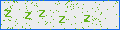z: (58, 15, 66, 24), (25, 12, 32, 20), (83, 15, 90, 23), (5, 10, 11, 17), (39, 10, 44, 17)
